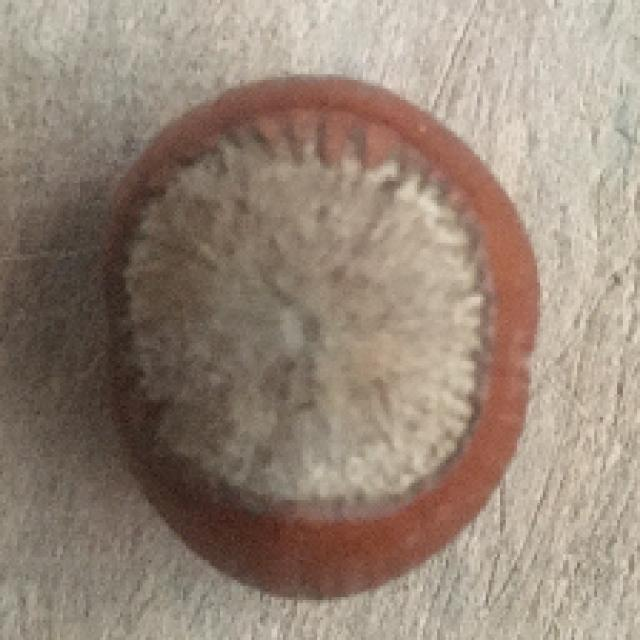qualityHazelnut: (100, 79, 542, 598)
